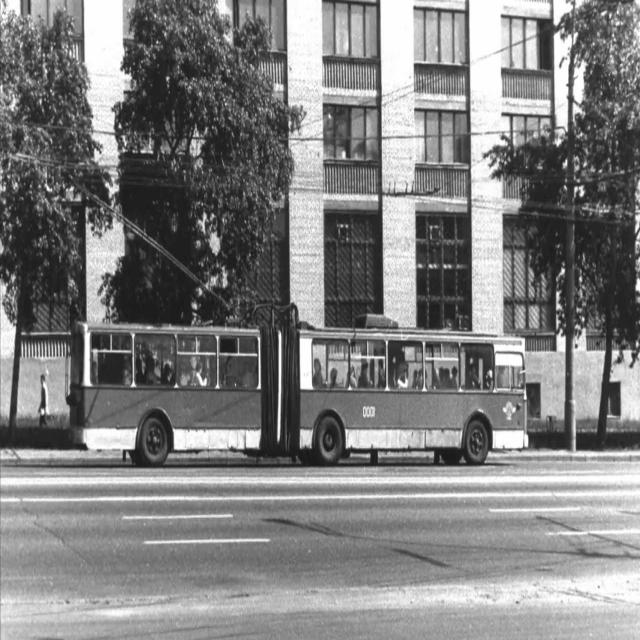bus: (66, 297, 537, 484)
